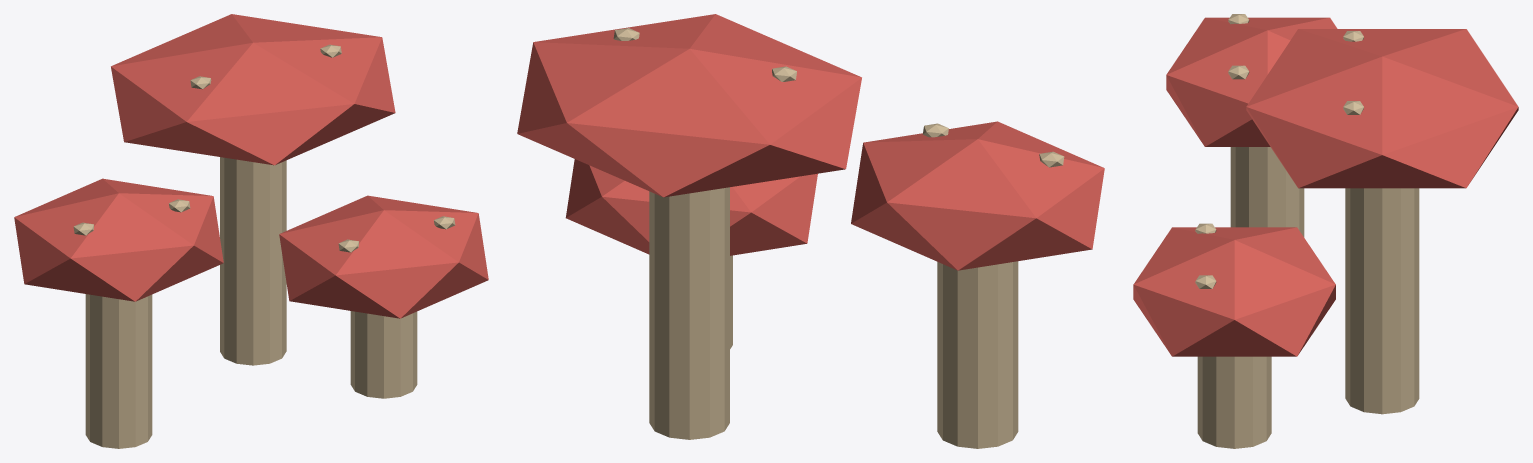
Rendered from mushroom.glb.
3 renders of one model, left to right at view 1: azimuth 30°, elevation 25°; view 2: azimuth 150°, elevation 25°; view 3: azimuth 270°, elevation 25°, orthographic. The views are drawn at different scales.
Visible parts, largest first — view 1: cap_1, cap_0, cap_2, stalk_1, stalk_0, stalk_2; view 2: cap_1, cap_0, stalk_1, stalk_0, cap_2; view 3: cap_1, cap_2, stalk_1, cap_0, stalk_2, stalk_0.
Part boxes in pixels (bbox=[...]): cap_1: bbox=[111, 14, 395, 165]; cap_0: bbox=[14, 178, 223, 301]; cap_2: bbox=[279, 195, 488, 318]; stalk_1: bbox=[220, 157, 286, 365]; stalk_0: bbox=[85, 294, 152, 448]; stalk_2: bbox=[350, 311, 417, 398]; cap_1: bbox=[517, 14, 861, 197]; cap_0: bbox=[851, 121, 1104, 270]; stalk_1: bbox=[649, 187, 729, 439]; stalk_0: bbox=[937, 261, 1018, 448]; cap_2: bbox=[565, 159, 817, 255]; cap_1: bbox=[1246, 29, 1518, 188]; cap_2: bbox=[1133, 227, 1335, 356]; stalk_1: bbox=[1345, 188, 1419, 414]; cap_0: bbox=[1166, 17, 1337, 146]; stalk_2: bbox=[1197, 356, 1271, 448]; stalk_0: bbox=[1230, 147, 1304, 237].
Bounding box in the file's own units: 0.6852 × 0.46 × 0.4692.
